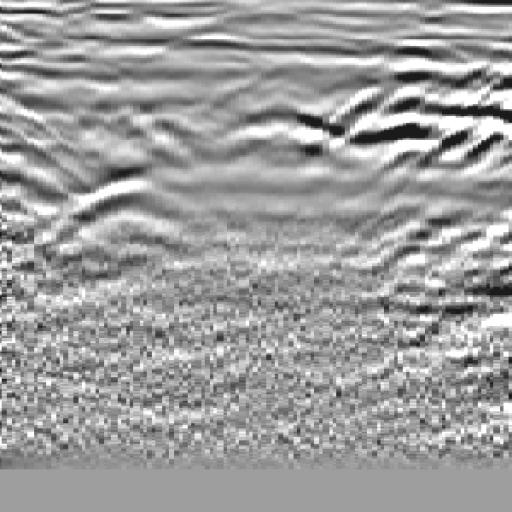metalic: (43, 151, 210, 267)
non-metallic: (190, 70, 350, 199)
nonmetalic: (354, 17, 512, 278)
